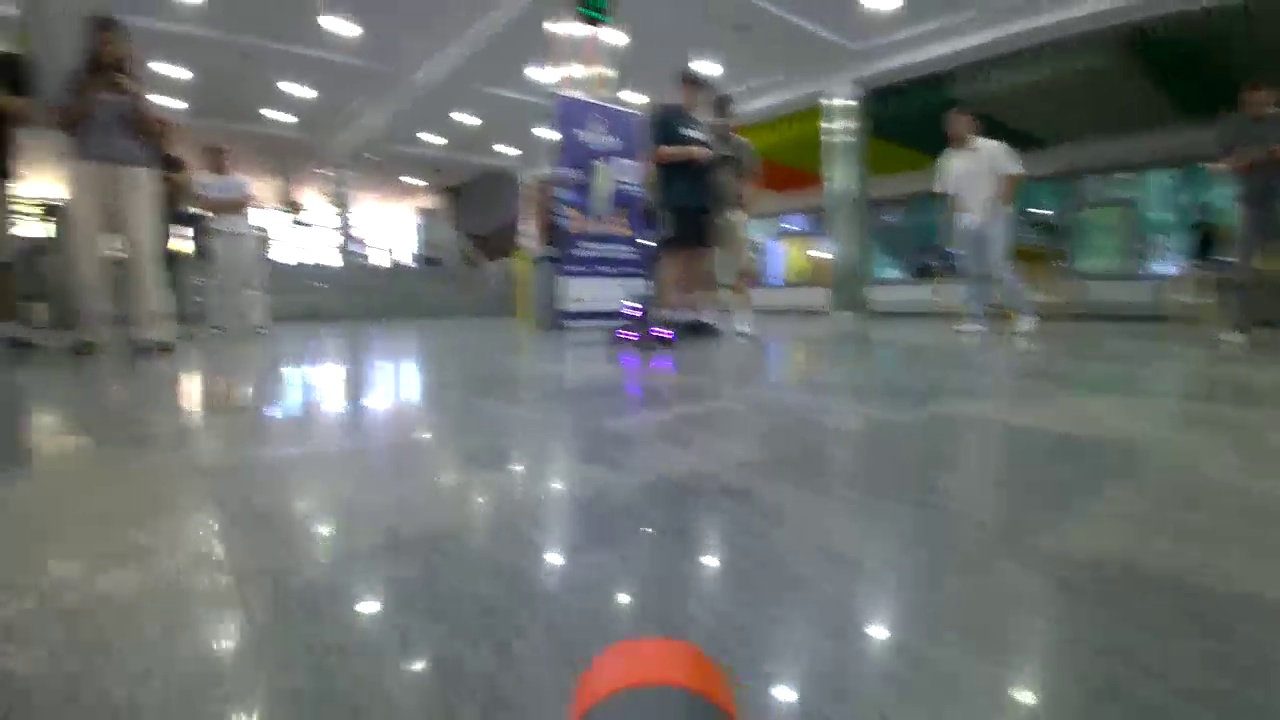robot: (613, 296, 679, 345)
